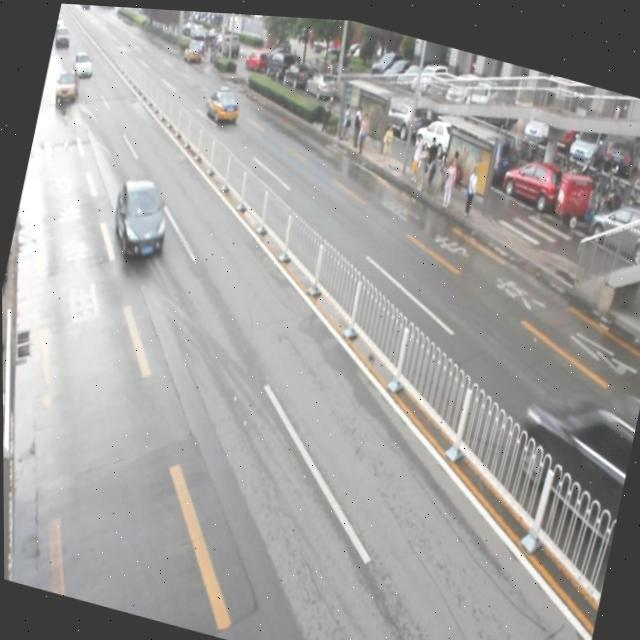car: (501, 370, 639, 544), (106, 171, 175, 262), (202, 80, 243, 127)
